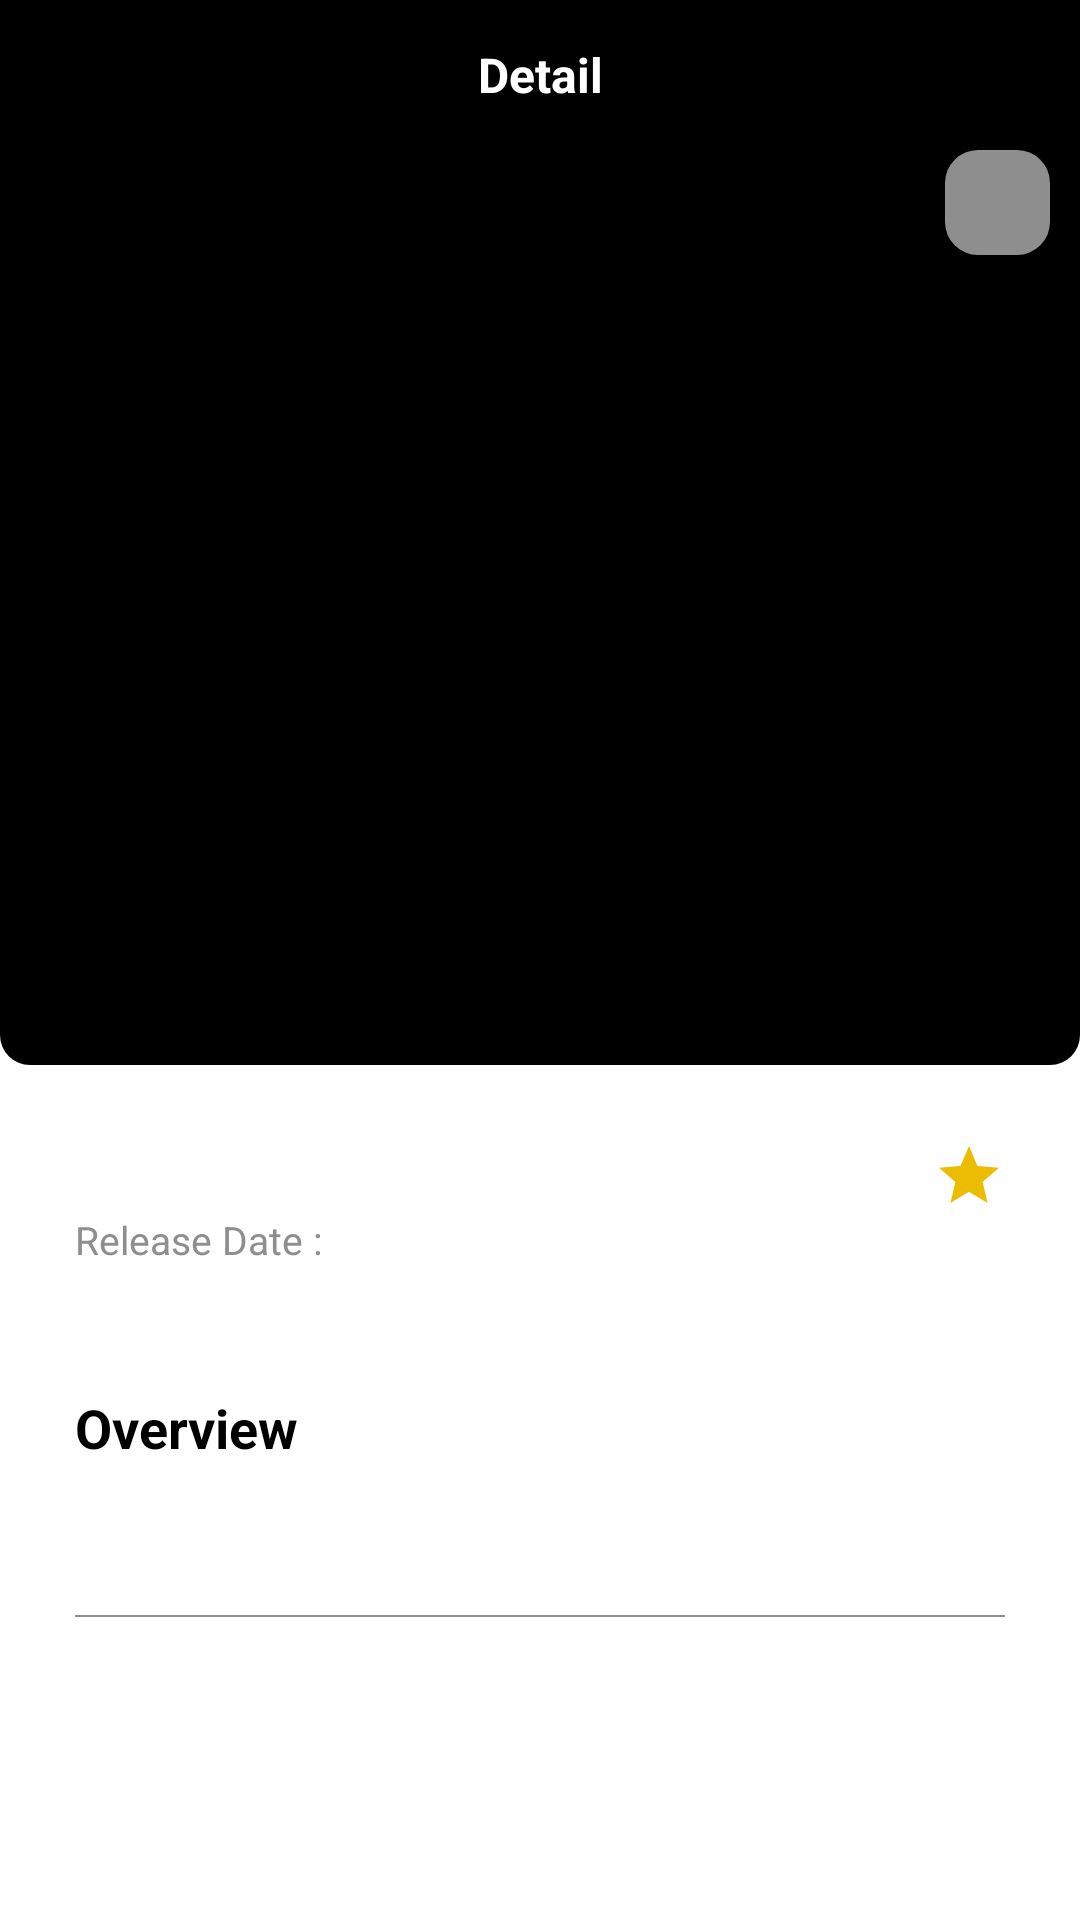

Screen size 1080px x 1920px. Icon name, then its center in pixels as [x,y]:
star: [969,1174]
